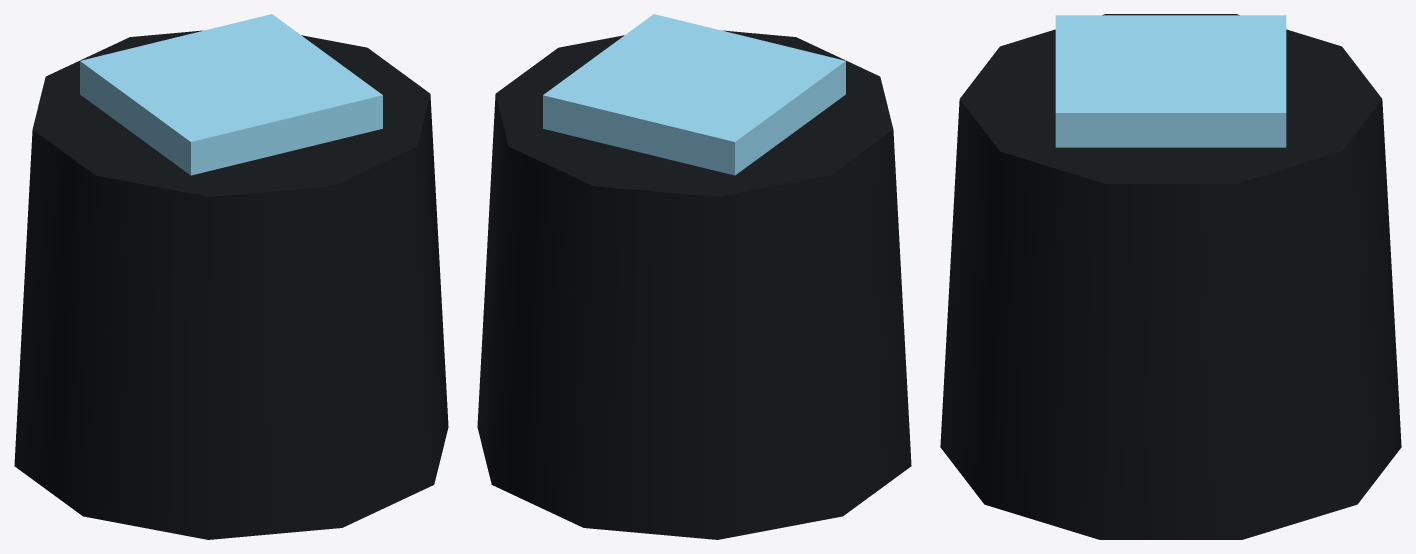
3 renders of one model, left to right at view 1: azimuth 30°, elevation 25°; view 2: azimuth 150°, elevation 25°; view 3: azimuth 270°, elevation 25°, orthographic. The views are drawn at different scales.
Parts seen in each view (by area): view 1: scanner, window; view 2: scanner, window; view 3: scanner, window.
Boxes of the visible parts, x1,y1,x2,y2 form: scanner: (14, 30, 448, 539); window: (80, 14, 382, 175); scanner: (477, 30, 911, 539); window: (543, 14, 845, 175); scanner: (940, 14, 1401, 539); window: (1055, 15, 1286, 147).
Bounding box in the file's own units: 0.2283 × 0.22 × 0.24.
